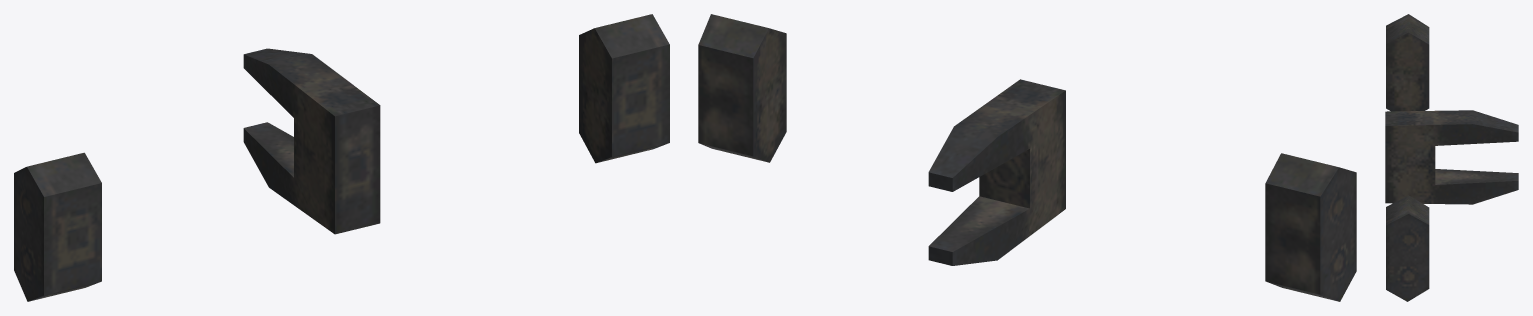
3 views of the same model, side by side, from view 1: azimuth 30°, elevation 25°; view 2: azimuth 150°, elevation 25°; view 3: azimuth 270°, elevation 25° (orthographic). The views are drawn at different scales.
Visible parts, largest first — view 1: set_0_group_0; view 2: set_0_group_0; view 3: set_0_group_0.
Part boxes in pixels (<box>): set_0_group_0: <box>14,14,669,301</box>; set_0_group_0: <box>698,14,1356,301</box>; set_0_group_0: <box>1385,14,1518,301</box>.
Bounding box in the file's own units: 0.5067 × 0.1043 × 0.1432.
1 material, 1 textured.
